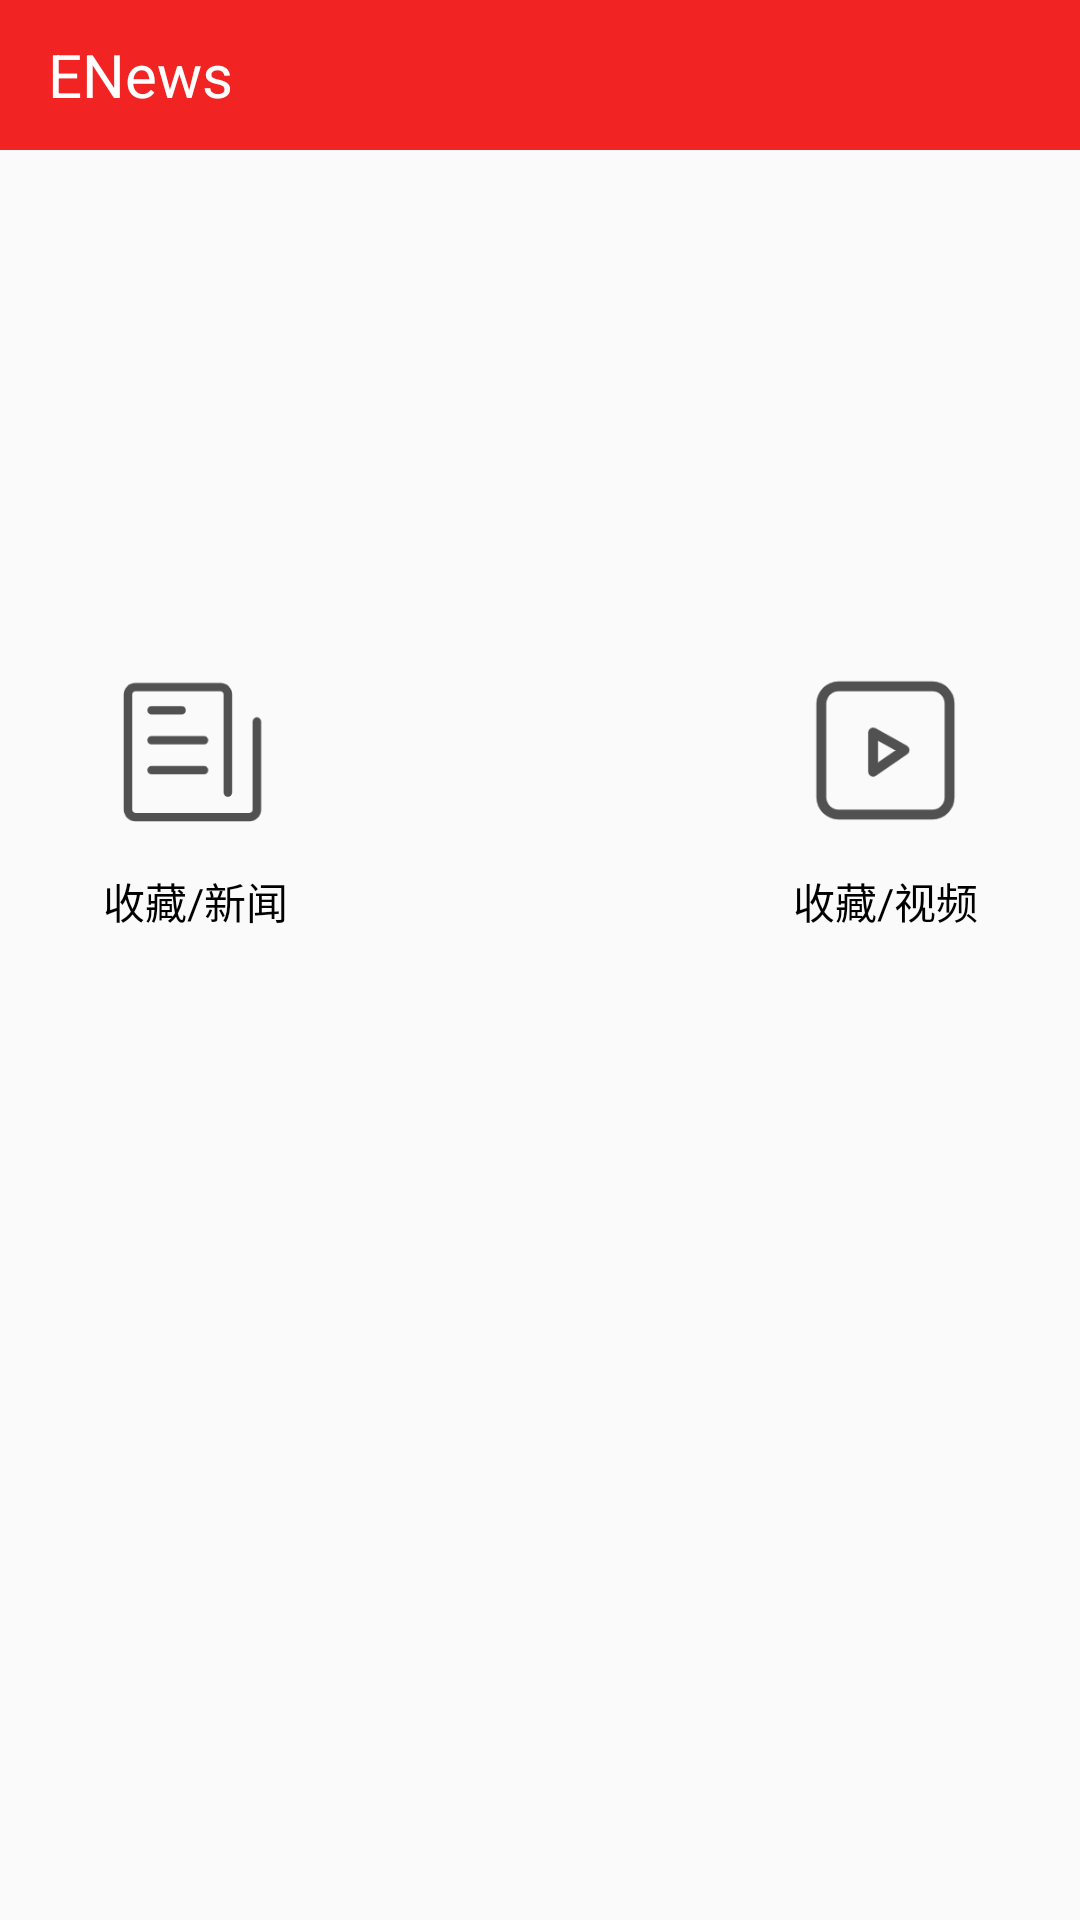

Locate icon controls on the screen. Image size 1080w x 1920h, boxes as (x1, y1, x2, y2).
news collection: (123, 682, 262, 822)
video collection: (816, 681, 955, 820)
